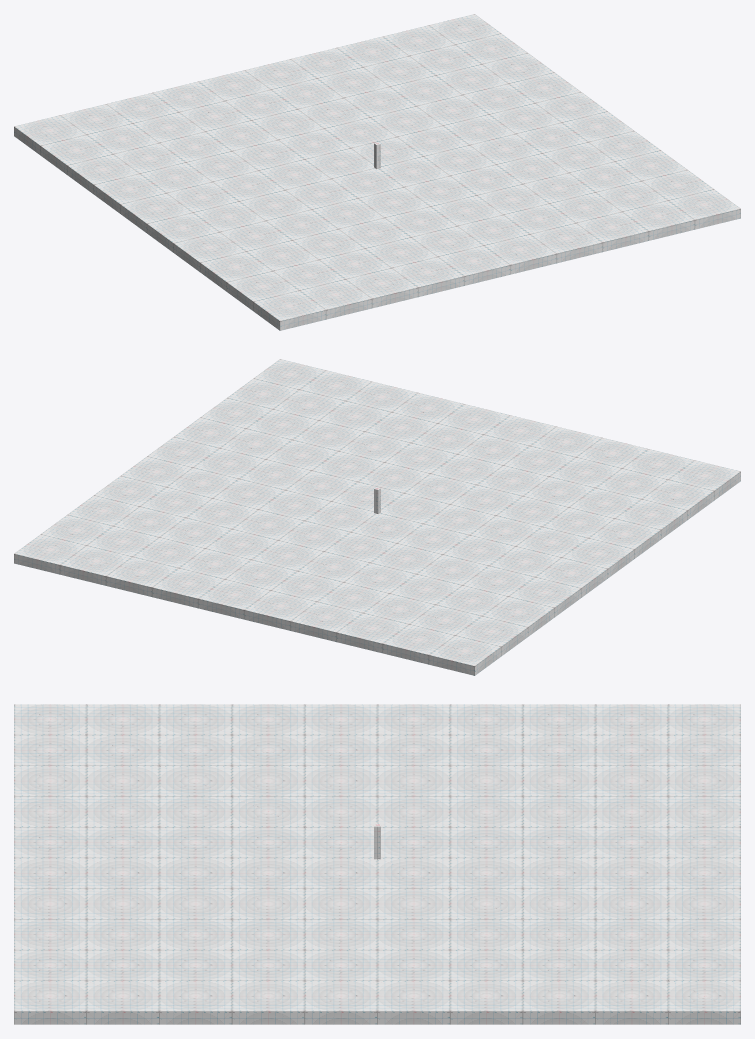
Rendered from builder-grid.fbx.
3 renders of one model, top to bottom at view 1: azimuth 30°, elevation 25°; view 2: azimuth 150°, elevation 25°; view 3: azimuth 270°, elevation 25°, orthographic. The views are drawn at different scales.
Visible parts, largest first — view 1: Cube; view 2: Cube; view 3: Cube.
Boxes of the visible parts, box(x1,y1,x2,y2) form: Cube: box(14, 14, 740, 330); Cube: box(14, 359, 740, 675); Cube: box(14, 704, 740, 1024).
Size of the model in its own units: 10000 by 699 by 10000.
2 materials, 2 textured.
